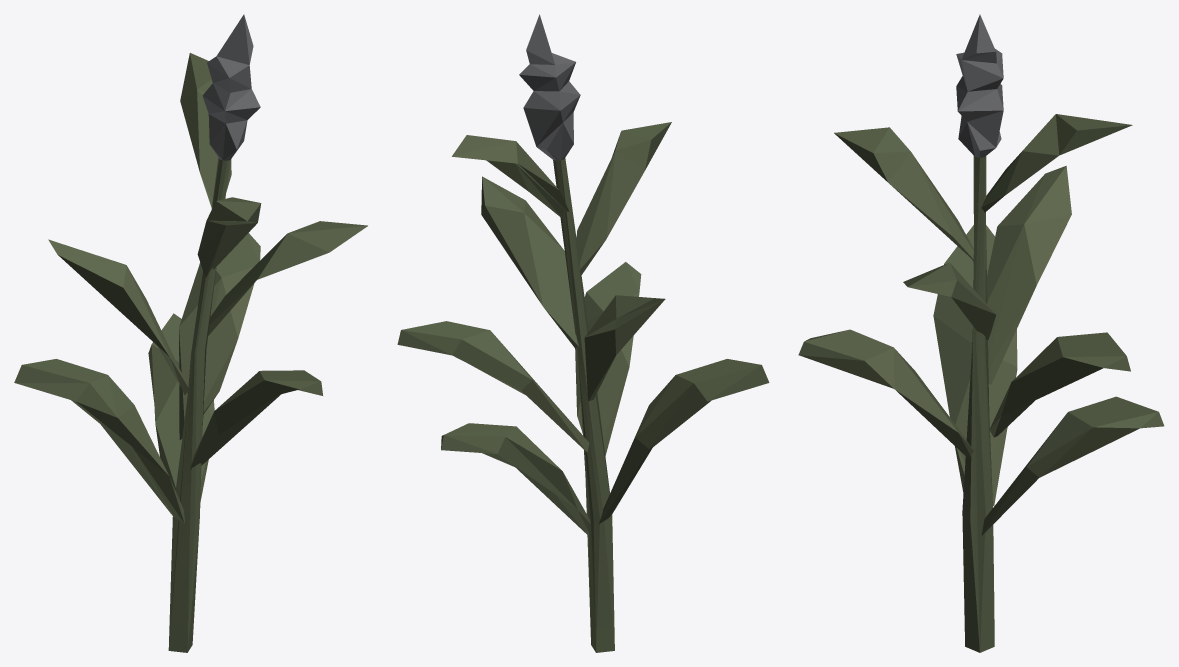
3 views of the same model, side by side, from view 1: azimuth 30°, elevation 25°; view 2: azimuth 150°, elevation 25°; view 3: azimuth 270°, elevation 25° (orthographic). The views are drawn at different scales.
Visible parts, largest first — view 1: SM_Plant_Flowers_01; view 2: SM_Plant_Flowers_01; view 3: SM_Plant_Flowers_01.
Part boxes in pixels (x1=…): SM_Plant_Flowers_01: x1=14, y1=14, x2=367, y2=652; SM_Plant_Flowers_01: x1=397, y1=14, x2=769, y2=652; SM_Plant_Flowers_01: x1=798, y1=14, x2=1164, y2=652.
Size of the model in its own units: 0.7534 by 1.39 by 0.6911.
Materials: 1 (1 with a texture image).
